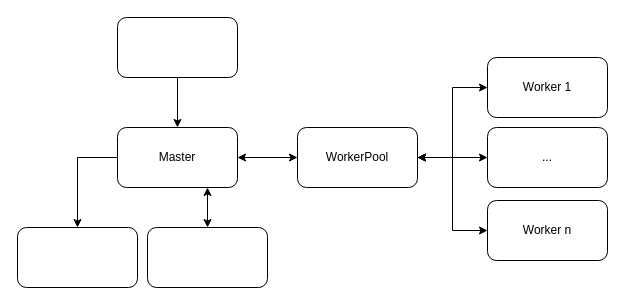
The diagram is 625 pixels wide and 305 high, and some of its shapes have lost their labels. Each missing label, with the centre of its shape:
"Collector" belongs at pixel 77 257.
"Emitter" belongs at pixel 177 47.
"Monitor" belongs at pixel 207 257.
